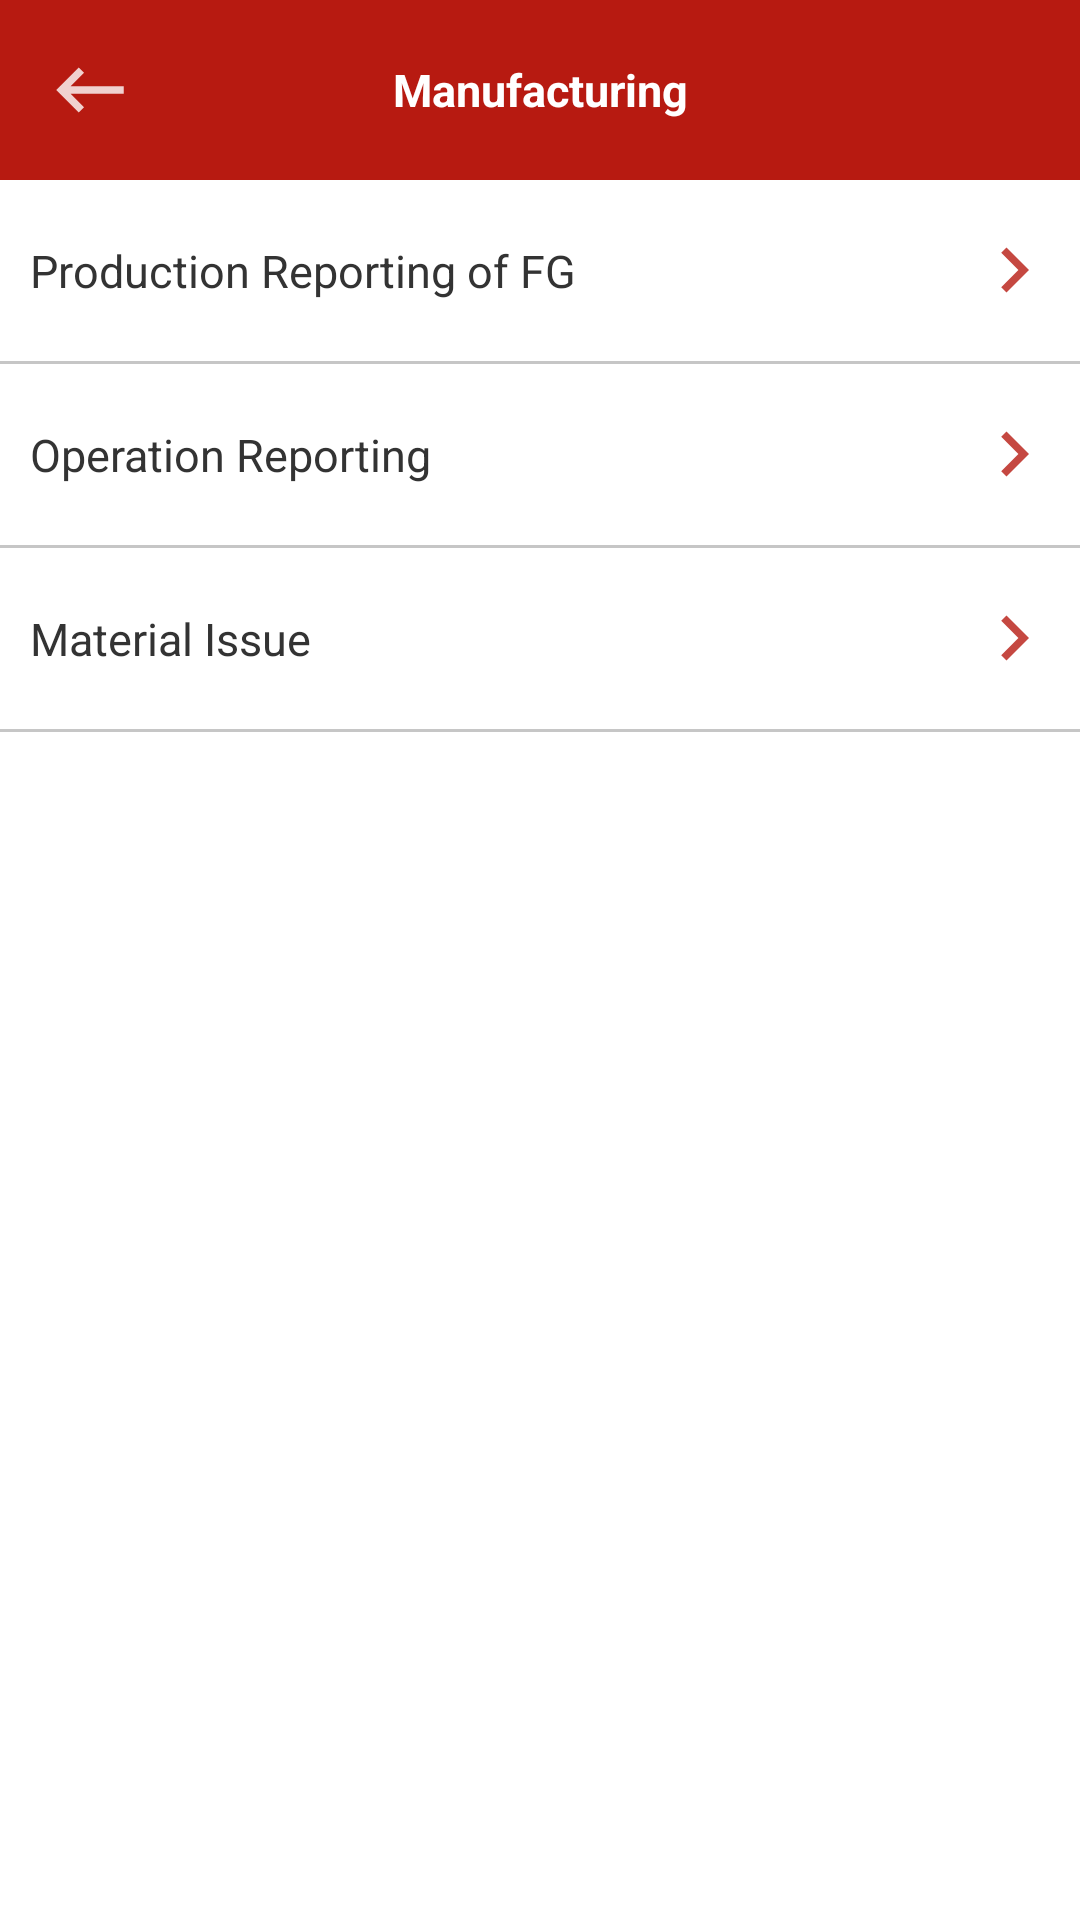

Named icons in this screenshot (1080px x 1920px) and their bounding boxes, rect(x1, y1, x2, y2):
arrow right: rect(1001, 247, 1029, 293), rect(1001, 431, 1029, 477), rect(1001, 615, 1029, 661)
back arrow: rect(56, 67, 124, 113)
